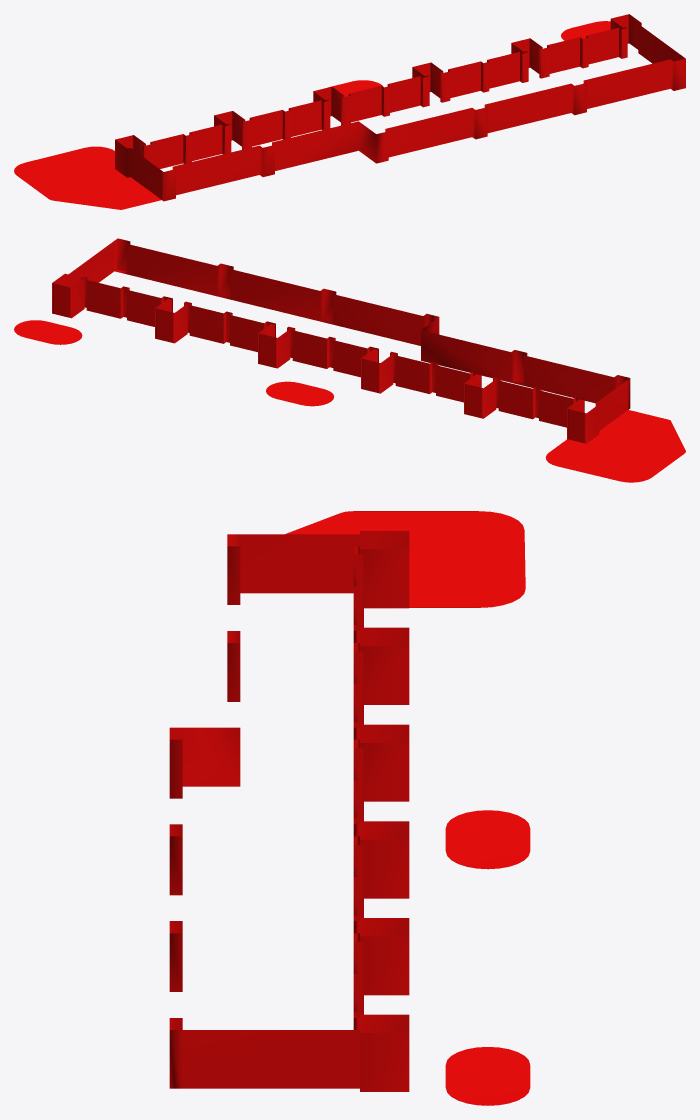
The model's file is frachtterminal_01_colmesh.fbx.
3 renders of one model, top to bottom at view 1: azimuth 30°, elevation 25°; view 2: azimuth 150°, elevation 25°; view 3: azimuth 270°, elevation 25°, orthographic. The views are drawn at different scales.
Parts seen in each view (by area): view 1: Mesh; view 2: Mesh; view 3: Mesh.
Boxes of the visible parts, x1=… form: Mesh: x1=14, y1=14, x2=685, y2=209; Mesh: x1=14, y1=238, x2=685, y2=482; Mesh: x1=169, y1=511, x2=530, y2=1105.
Bounding box in the file's own units: 46710 × 2157 × 11973.
